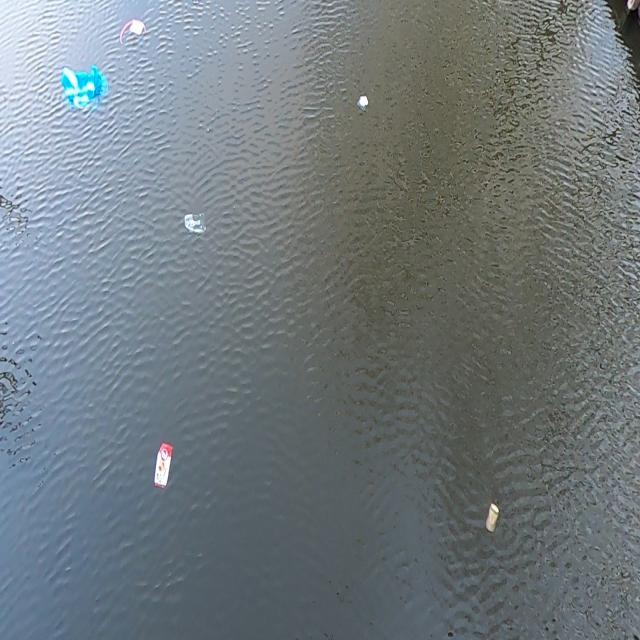Autre plastique: (150, 438, 176, 495)
Non plastique: (483, 498, 502, 537)
Sac plastique: (57, 58, 111, 114), (180, 208, 209, 238)
